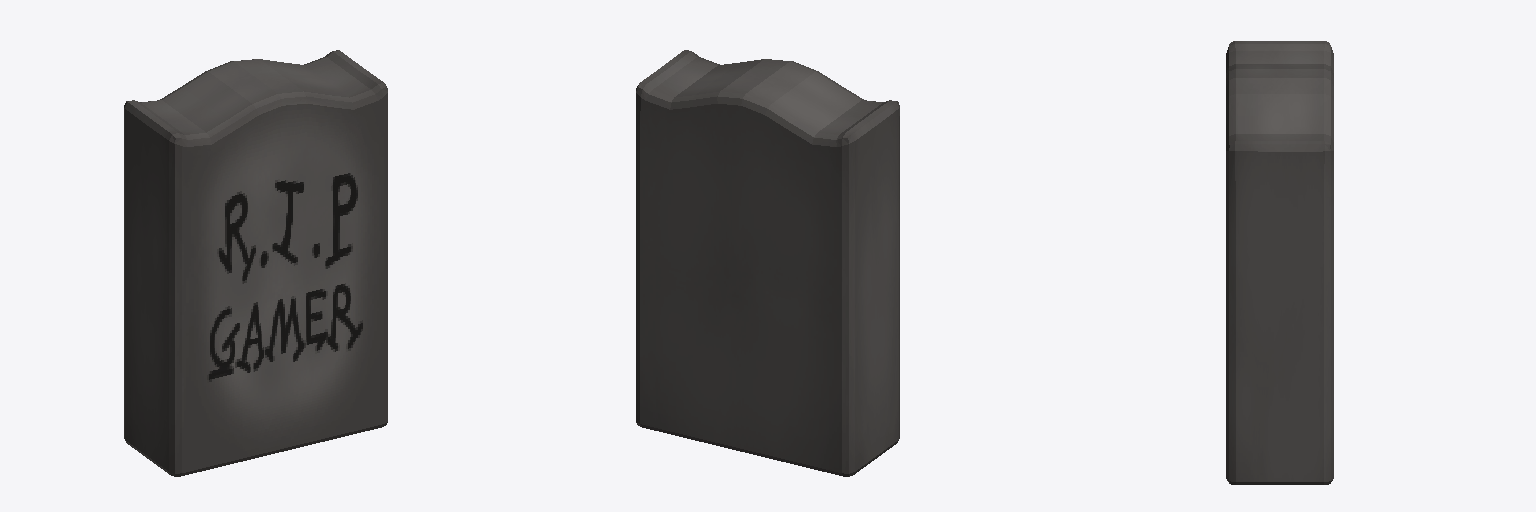
3 views of the same model, side by side, from view 1: azimuth 30°, elevation 25°; view 2: azimuth 150°, elevation 25°; view 3: azimuth 270°, elevation 25° (orthographic).
Visible parts, largest first — view 1: GraveStone; view 2: GraveStone; view 3: GraveStone.
Boxes of the visible parts, x1,y1,x2,y2 form: GraveStone: [124, 50, 387, 476]; GraveStone: [636, 50, 899, 476]; GraveStone: [1226, 41, 1333, 484].
Bounding box in the file's own units: 1.34 × 2.09 × 0.569.
Materials: 1 (1 with a texture image).